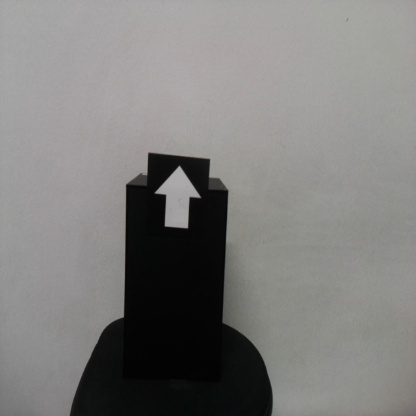id_1: (147, 155, 209, 247)
